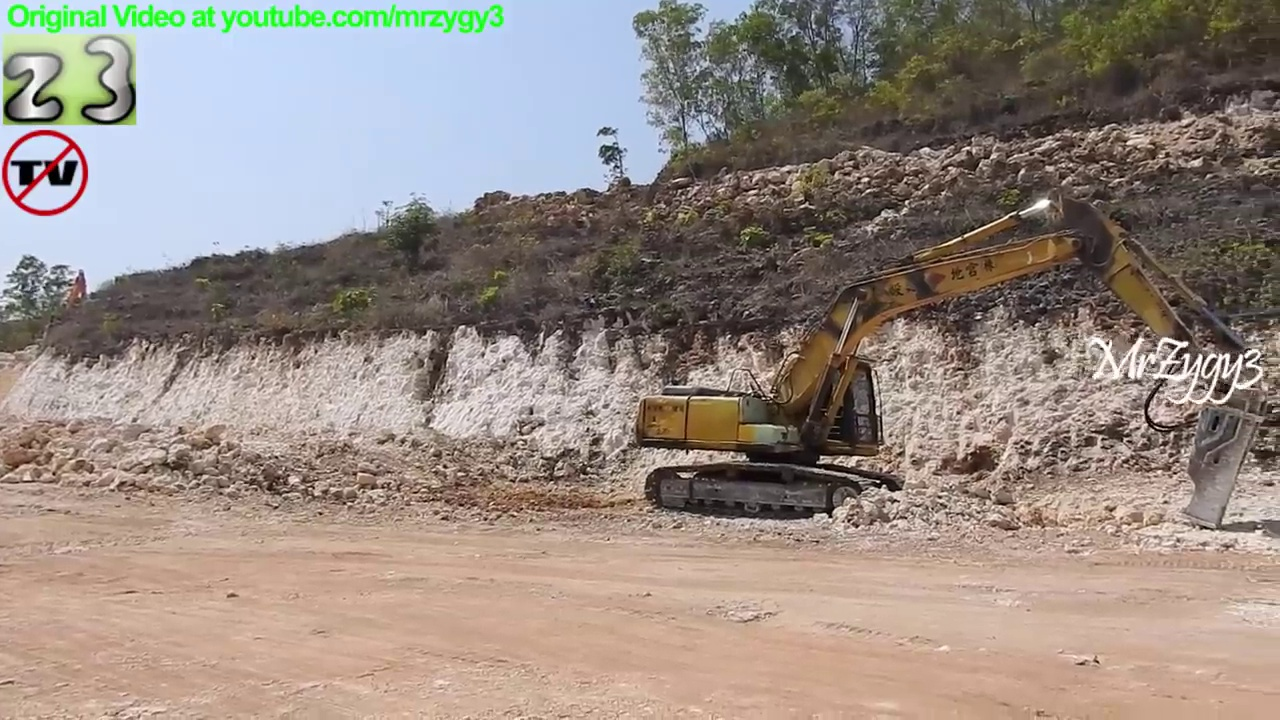excavator: (43, 268, 99, 361)
excavator breaker: (630, 188, 1271, 534)
